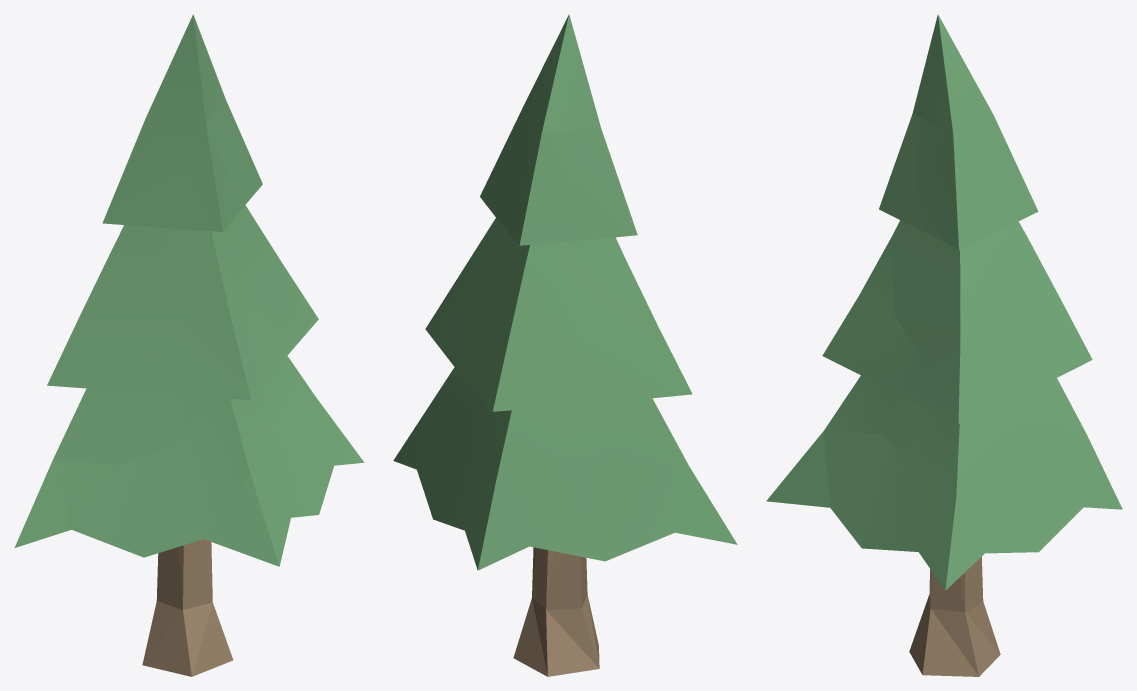
File: tree-spruce.glb
3 renders of one model, left to right at view 1: azimuth 30°, elevation 25°; view 2: azimuth 150°, elevation 25°; view 3: azimuth 270°, elevation 25°, orthographic.
Visible parts, largest first — view 1: tree_spruce; view 2: tree_spruce; view 3: tree_spruce.
Boxes of the visible parts, left/top/right/bottom form: tree_spruce: left=14, top=14, right=364, bottom=676; tree_spruce: left=393, top=14, right=737, bottom=676; tree_spruce: left=766, top=14, right=1122, bottom=676.
Size of the model in its own units: 314 by 555 by 278.
